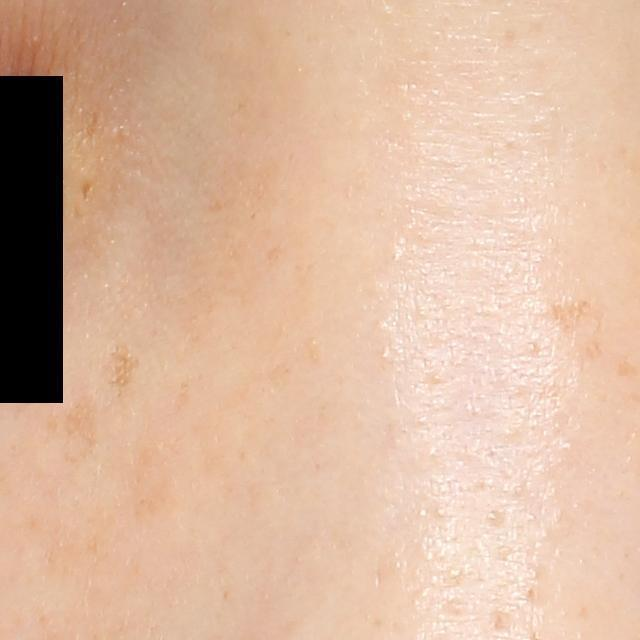melasma: (10, 382, 103, 473), (126, 425, 186, 528), (98, 341, 146, 400), (548, 293, 596, 349)
